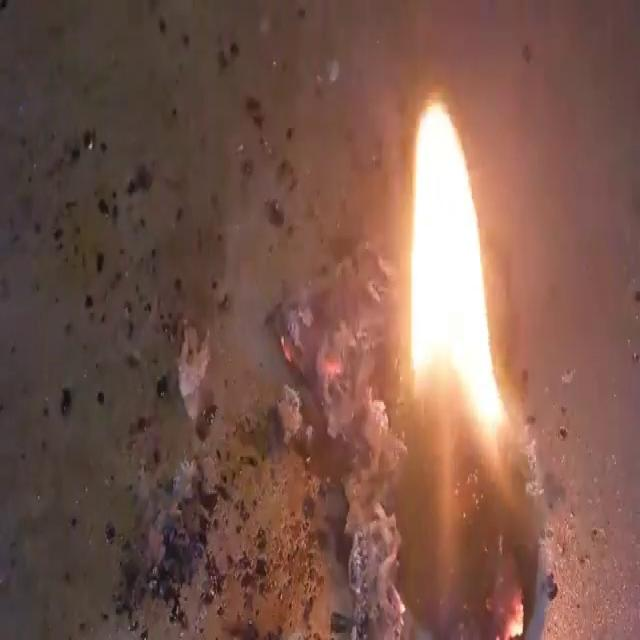Fire: (3, 4, 635, 636), (405, 94, 508, 446)
